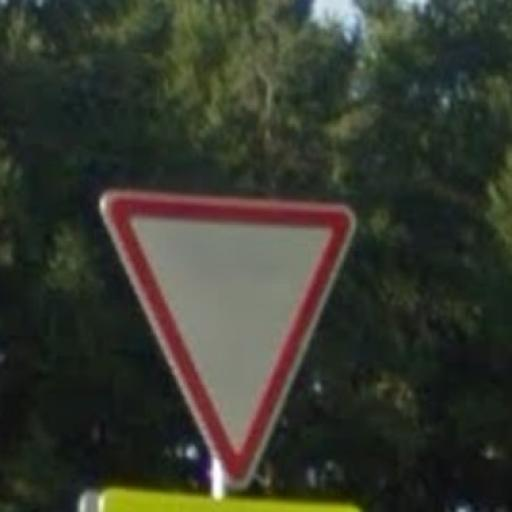traffic_sign: (81, 184, 365, 496)
